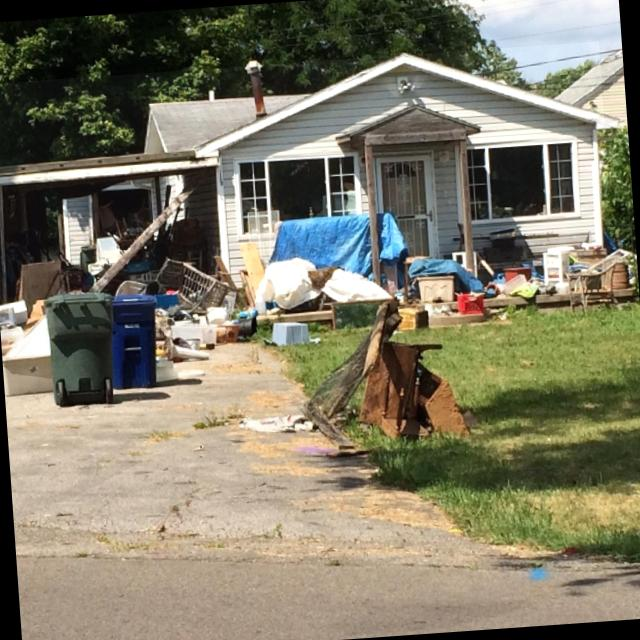House: (0, 41, 615, 330)
